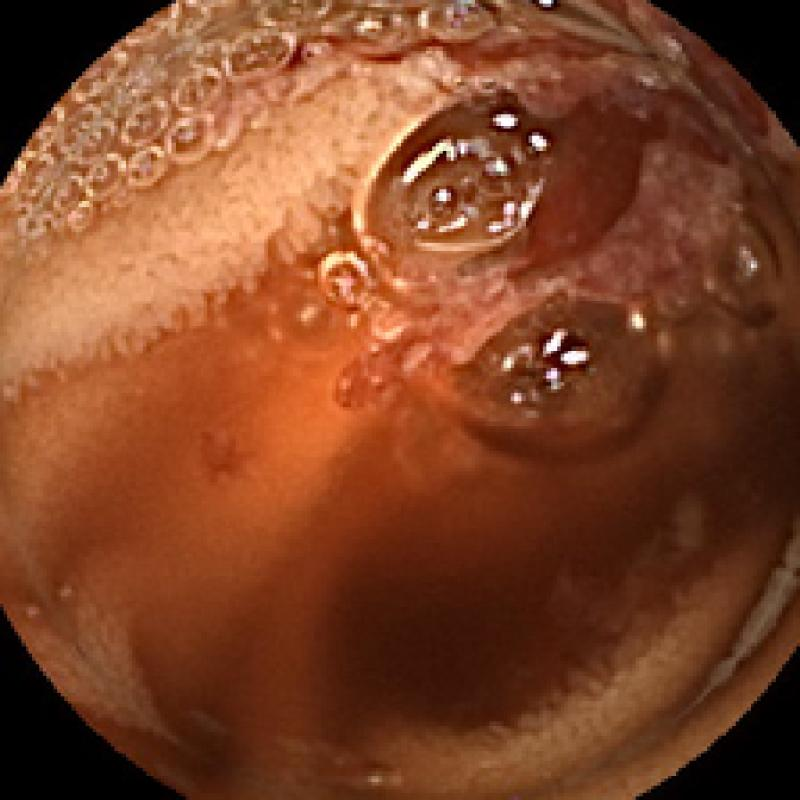bleeding: (289, 0, 782, 279), (532, 326, 594, 376)
